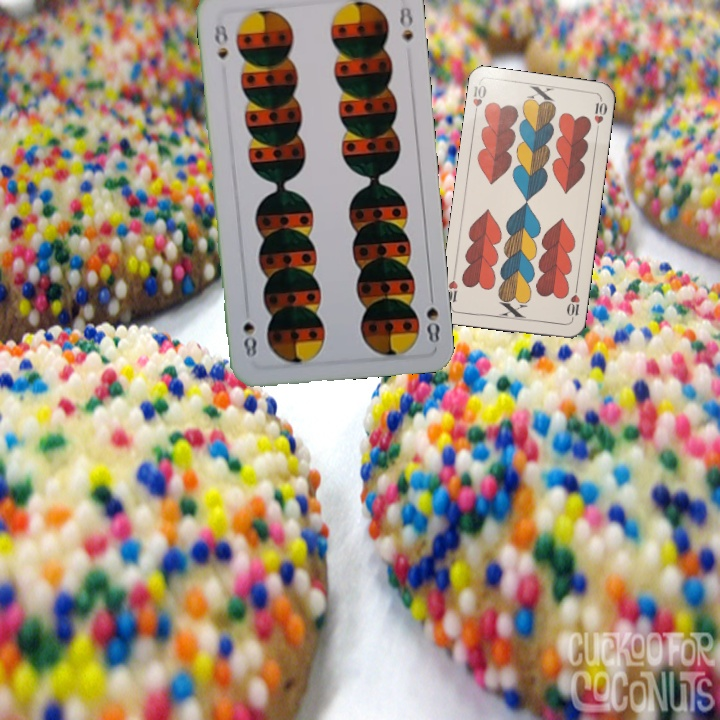H10: (469, 81, 489, 121), (563, 283, 582, 324)
S8: (422, 286, 442, 346), (210, 18, 231, 61)
